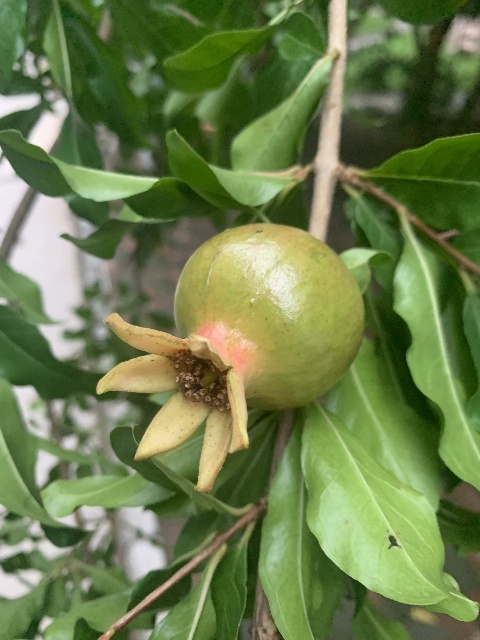mid-growth: (96, 222, 367, 495)
